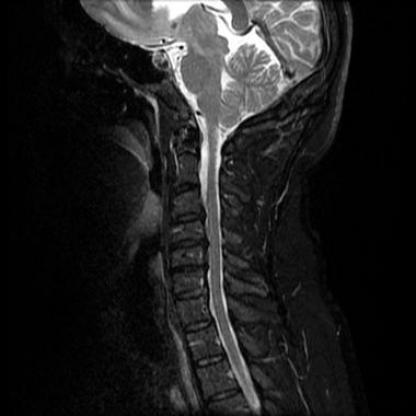Disc Protrusionrotation: (168, 209, 206, 226), (168, 261, 207, 276), (166, 238, 206, 252), (173, 286, 207, 302)
Osteophytesrotation: (168, 209, 206, 226), (166, 237, 206, 252), (168, 261, 207, 276), (173, 286, 207, 302)
